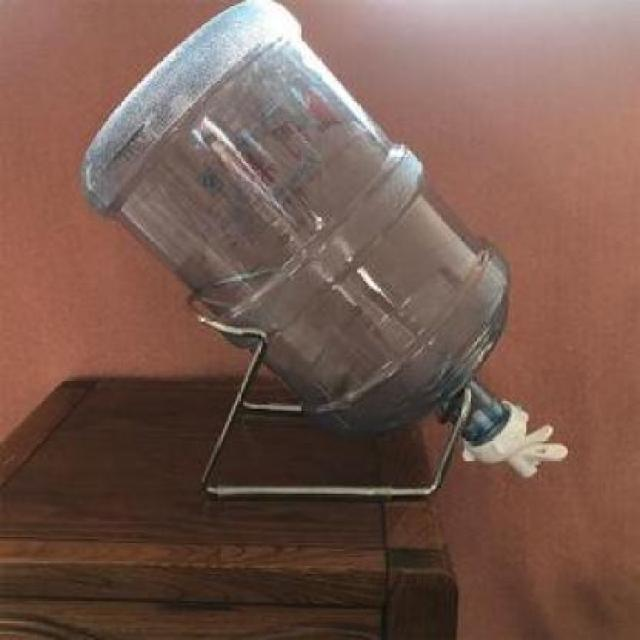coolerbottle: (80, 0, 516, 450)
